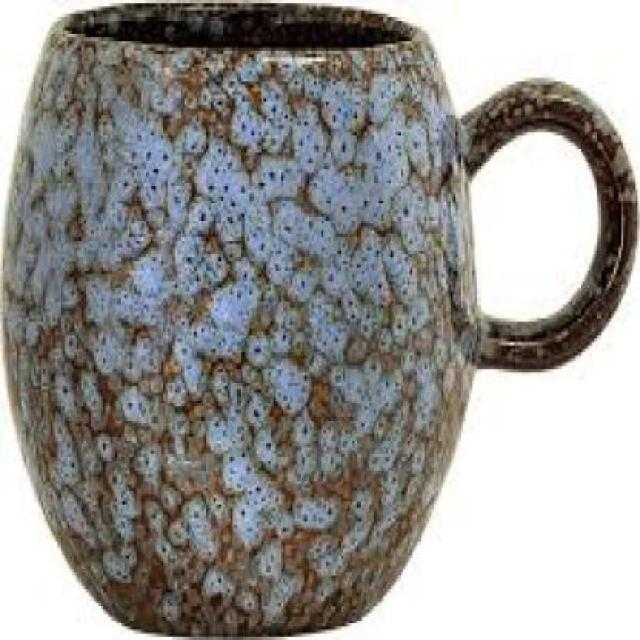cup: (0, 3, 638, 637)
